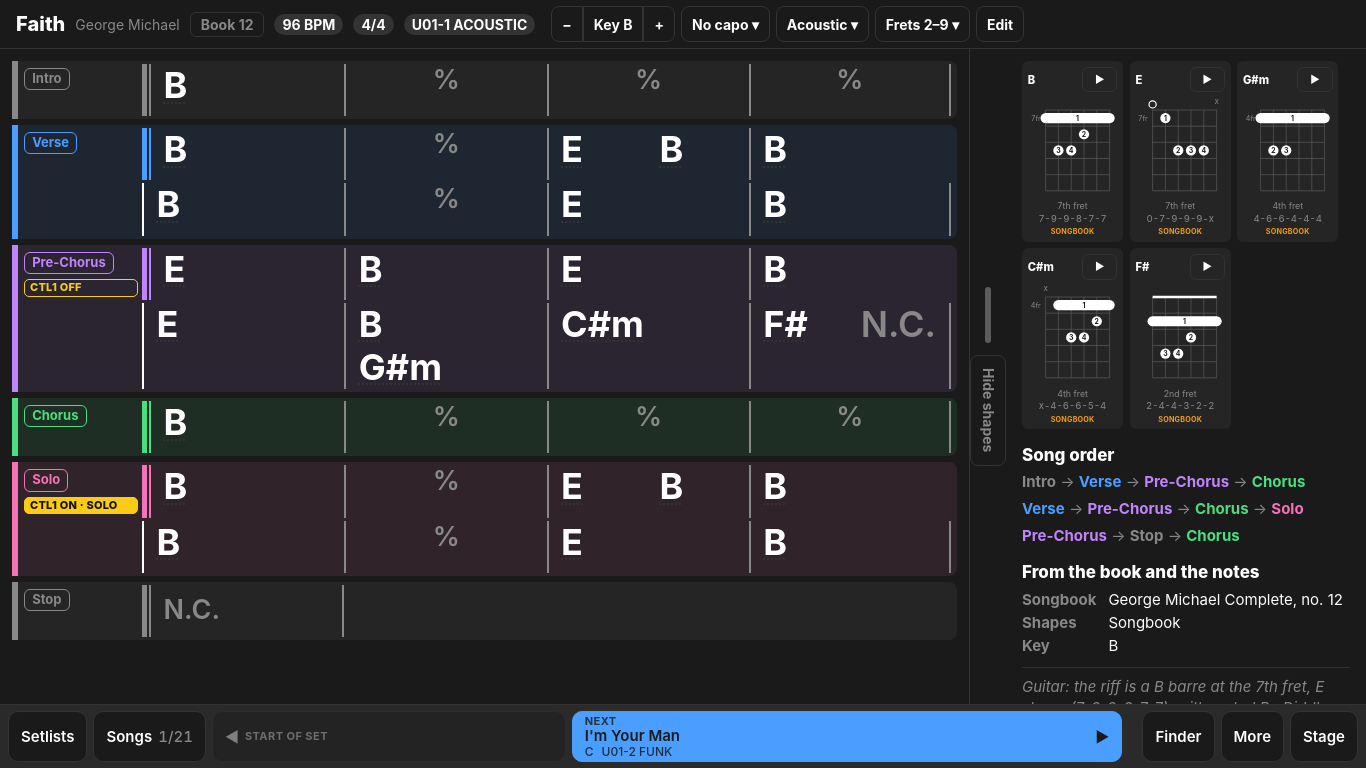
Test case: the two screens › opens on Practice, and the bar switches to Stage and back
Click the button with aria-label "Switch to Stage" at (1324, 736), box [1290,711,1358,762]
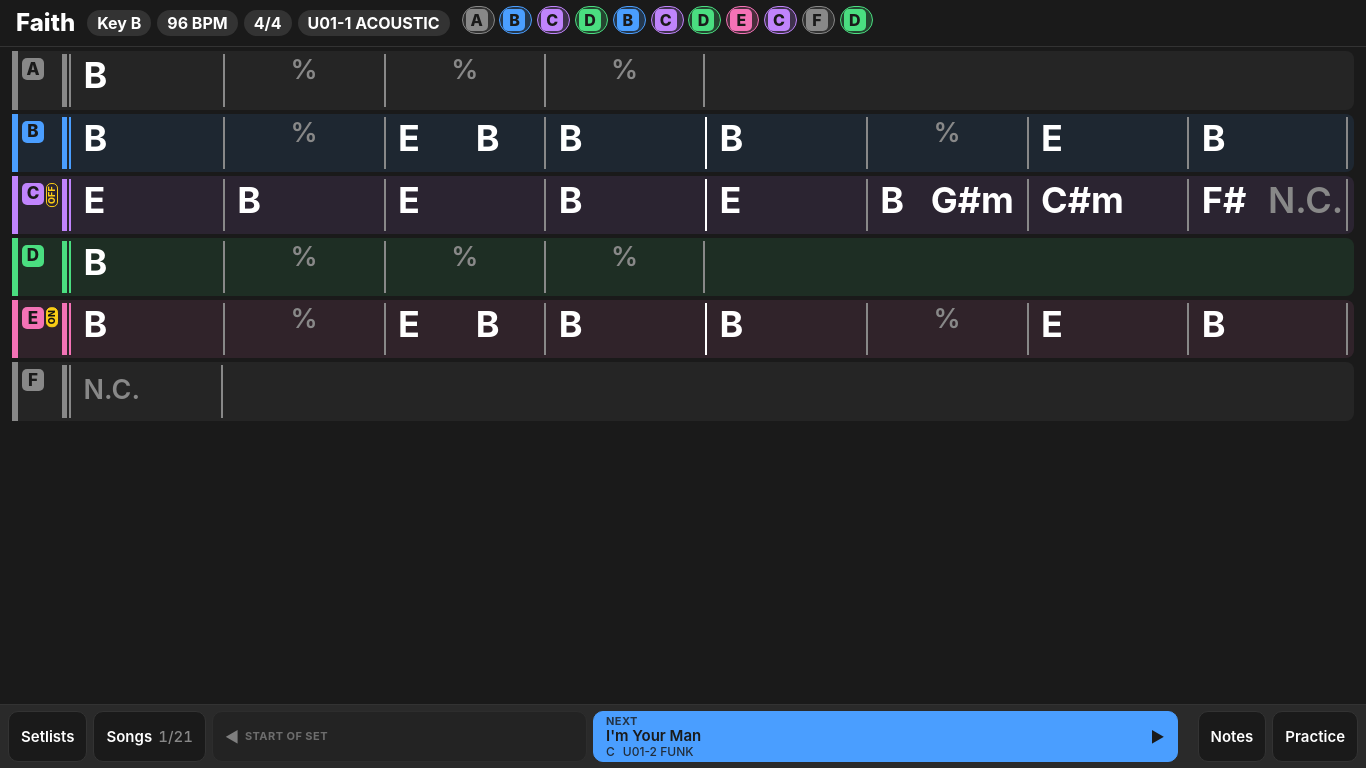
expect the element named "Stage" is shown: met, box [0,0,1365,420]
Click the button with aria-label "Switch to Practice" at (1315, 736), box [1272,711,1358,762]
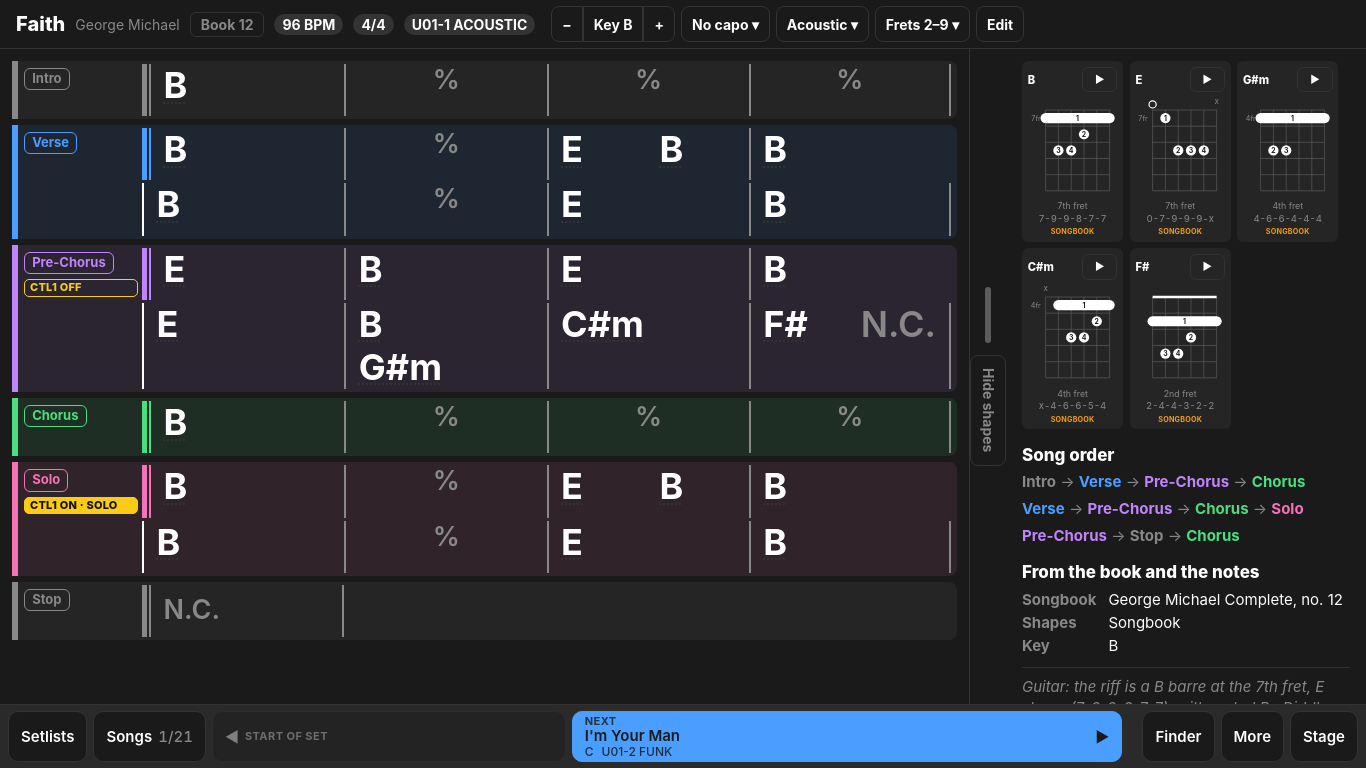
expect the element named "Practice" is shown: met
